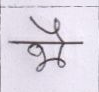ai_matra: (30, 16, 71, 42)
